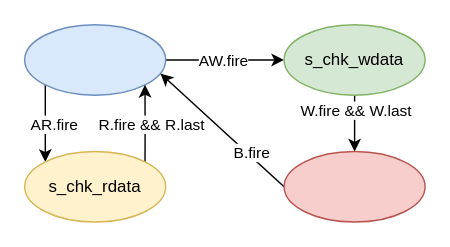
Some shapes in this 450 by 247 pixel diagram are drawn without their labels. Each missing label, with the centre of its shape:
"s_chk_idle" goes at point (94, 59).
"s_chk_resp" goes at point (354, 186).
